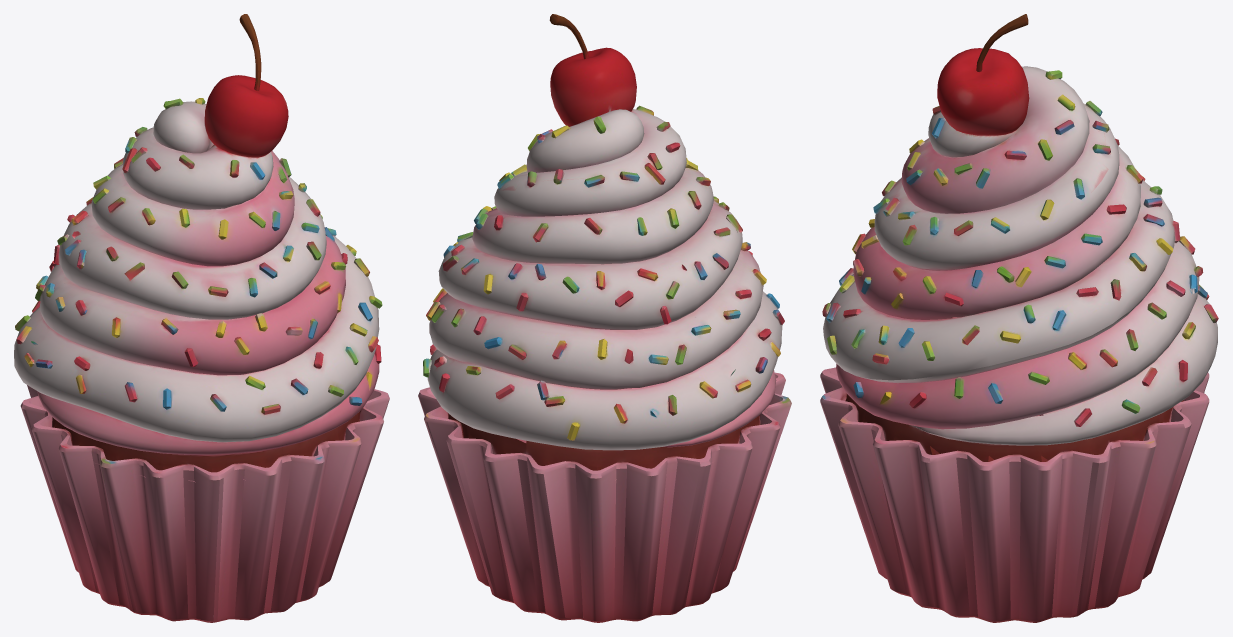
Rendered from cupcake_tower.glb.
3 renders of one model, left to right at view 1: azimuth 30°, elevation 25°; view 2: azimuth 150°, elevation 25°; view 3: azimuth 270°, elevation 25°, orthographic. The views are drawn at different scales.
Parts seen in each view (by area): view 1: cupcake_tower; view 2: cupcake_tower; view 3: cupcake_tower.
Part boxes in pixels (x1,y1,x2,y2): cupcake_tower: (14, 14, 389, 622); cupcake_tower: (418, 14, 791, 622); cupcake_tower: (820, 14, 1218, 622).
Bounding box in the file's own units: 4.97 × 8 × 5.01.
Materials: 1 (1 with a texture image).
